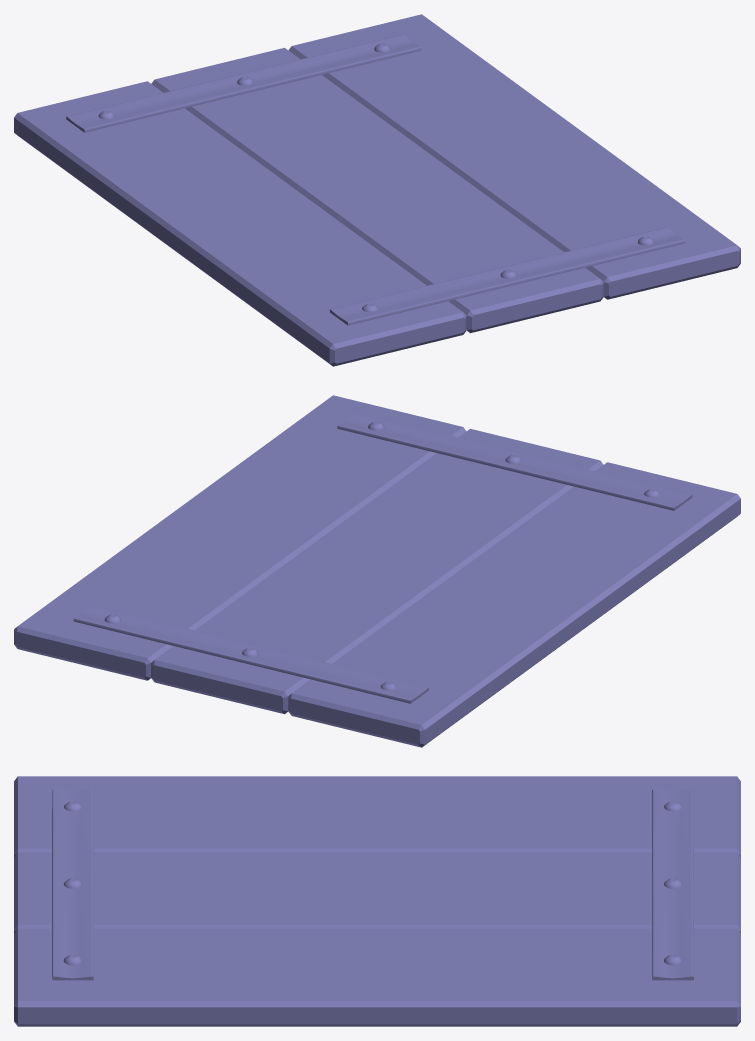
Rendered from Chest_2.fbx.
The picture shows the model from 3 angles, top to bottom: view 1: azimuth 30°, elevation 25°; view 2: azimuth 150°, elevation 25°; view 3: azimuth 270°, elevation 25°; orthographic projection. The views are drawn at different scales.
Visible parts, largest first — view 1: Table002; view 2: Table002; view 3: Table002.
Part boxes in pixels (left/top/right/bottom): Table002: left=14, top=14, right=740, bottom=366; Table002: left=14, top=395, right=740, bottom=747; Table002: left=14, top=776, right=740, bottom=1026.
Size of the model in its own units: 69.93 by 4.68 by 94.
